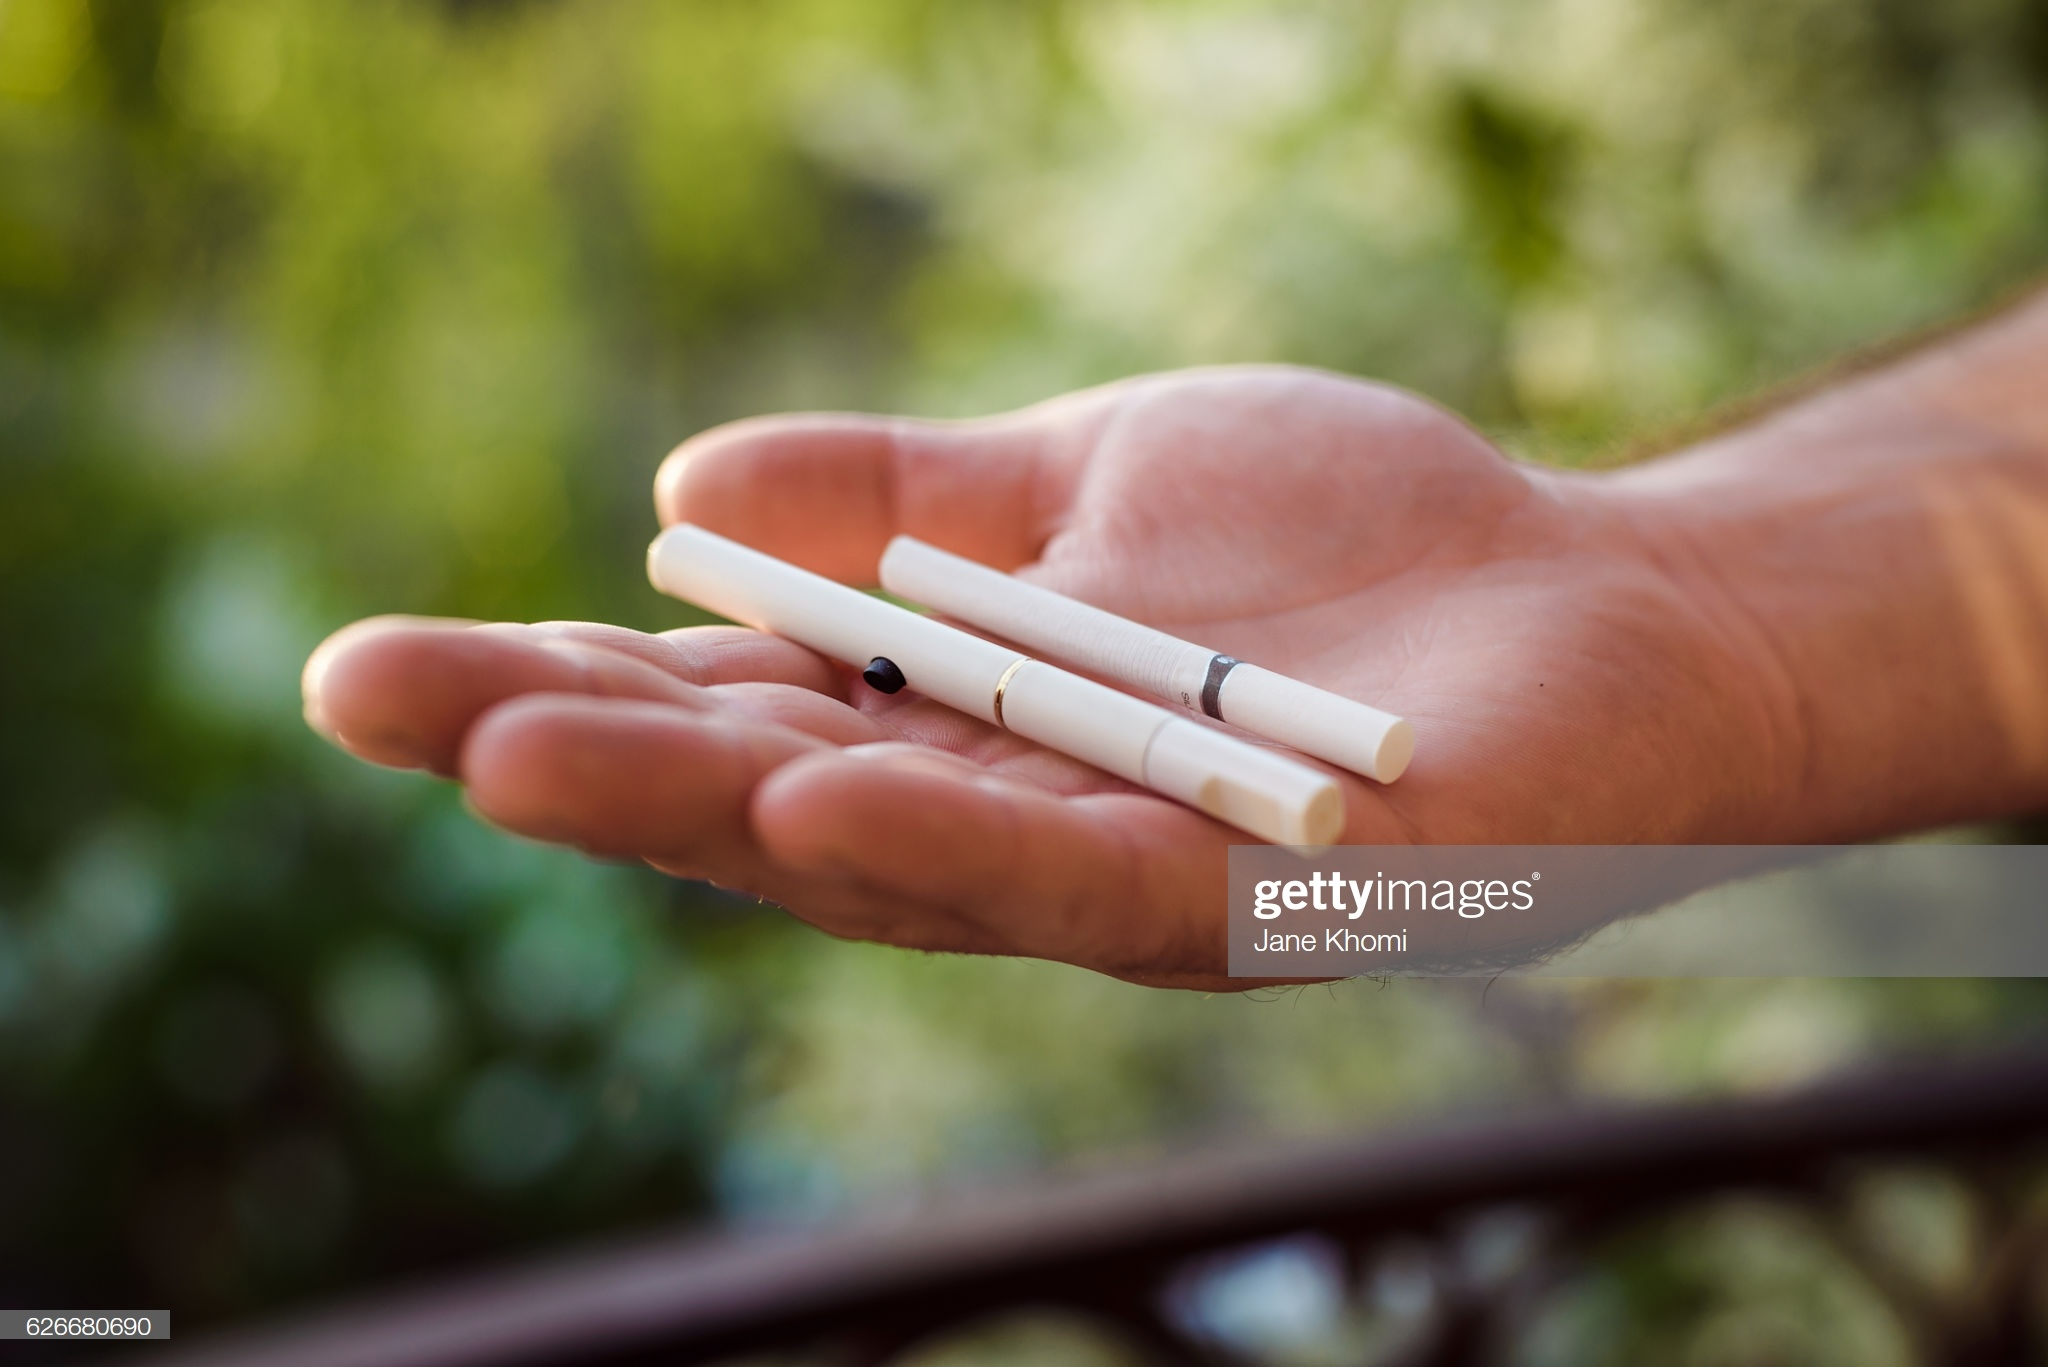sigaretta: (656, 528, 1350, 848), (884, 542, 1417, 763)
